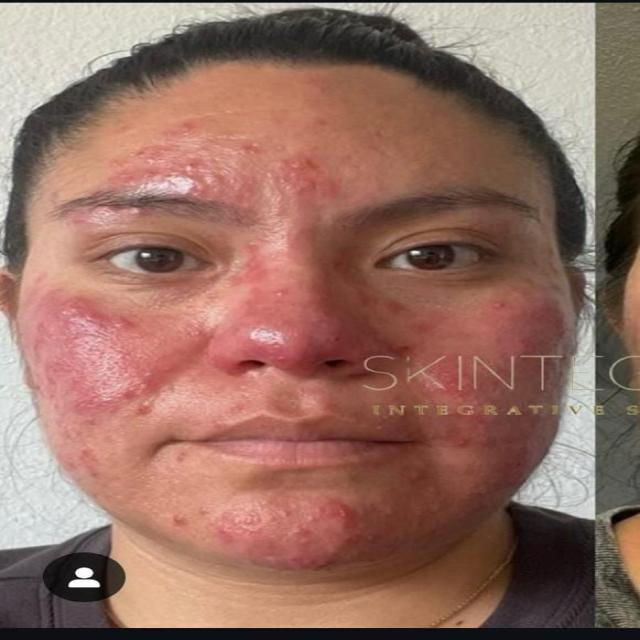Rosacea: (26, 290, 569, 418), (124, 145, 324, 207)
